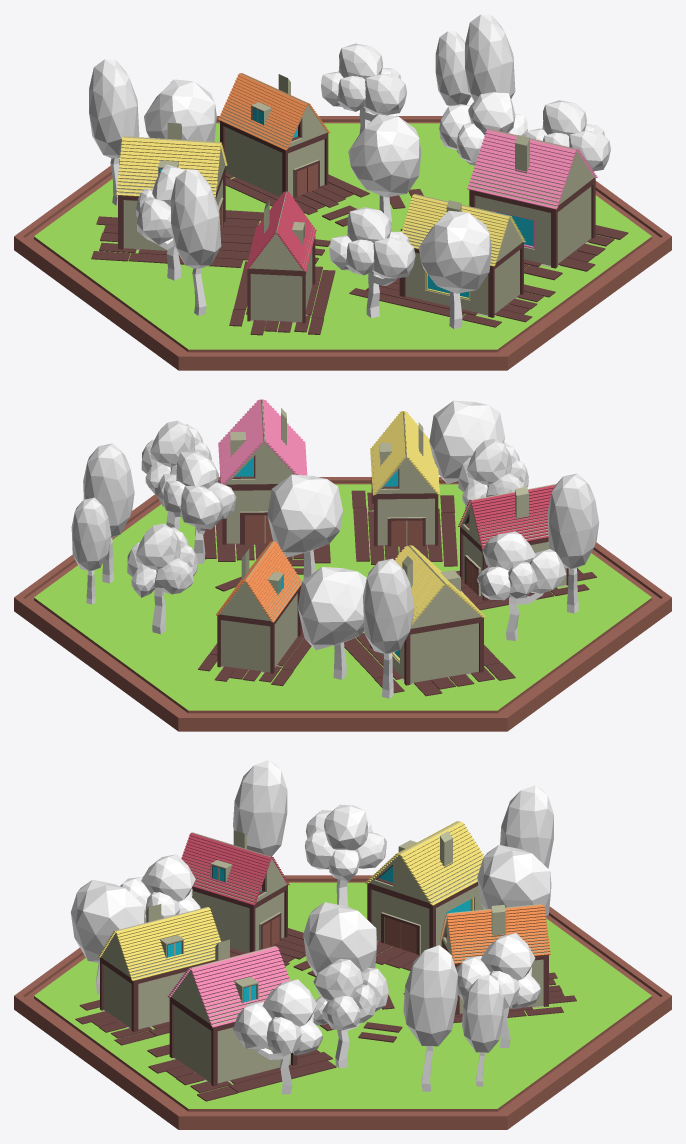
The model's file is Hexagon_Village.glb.
3 views of the same model, one above another, from view 1: azimuth 30°, elevation 25°; view 2: azimuth 150°, elevation 25°; view 3: azimuth 270°, elevation 25° (orthographic).
Visible parts, largest first — view 1: Circle, Plane.003, Plane.001, Plane, Plane.004, Plane.002, Tree 5.003, Tree 6, Tree 5, Tree 6.002, Tree 4.004, Tree 4.002 (+6 smaller); view 2: Circle, Plane.002, Plane, Plane.001, Plane.003, Plane.004, Tree 5, Tree 5.002, Tree 6.005, Tree 6.003, Tree 4.002, Tree 6.002 (+6 smaller); view 3: Circle, Plane.003, Plane, Plane.002, Plane.004, Plane.001, Tree 6.001, Tree 6.005, Tree 4.001, Tree 6.003, Tree 6.002, Tree 5 (+6 smaller).
Boxes of the visible parts, box(x1,y1,x2,y2) form: Circle: box(14, 116, 671, 370); Plane.003: box(467, 129, 628, 280); Plane.001: box(218, 73, 369, 214); Plane: box(91, 122, 263, 267); Plane.004: box(229, 191, 335, 335); Plane.002: box(349, 194, 555, 327); Tree 5.003: box(418, 210, 491, 328); Tree 6: box(329, 207, 415, 318); Tree 5: box(348, 114, 421, 231); Tree 6.002: box(321, 43, 406, 133); Tree 4.004: box(171, 169, 221, 315); Tree 4.002: box(89, 59, 139, 205); Circle: box(14, 477, 671, 731); Plane.002: box(351, 411, 457, 566); Plane: box(344, 545, 515, 696); Plane.001: box(198, 541, 311, 685); Plane.003: box(203, 399, 330, 563); Plane.004: box(455, 484, 596, 610); Tree 5: box(267, 474, 342, 579); Tree 5.002: box(297, 567, 366, 679); Tree 6.005: box(477, 531, 566, 640); Tree 6.003: box(157, 452, 236, 564); Tree 4.002: box(363, 558, 414, 698); Tree 6.002: box(127, 523, 197, 634); Circle: box(14, 875, 671, 1129); Plane.003: box(147, 939, 336, 1101); Plane: box(365, 821, 484, 970); Plane.002: box(75, 904, 220, 1045); Plane.004: box(181, 830, 305, 966); Plane.001: box(403, 904, 576, 1023); Tree 6.001: box(233, 979, 322, 1094); Tree 6.005: box(304, 804, 386, 906); Tree 4.001: box(403, 945, 457, 1091); Tree 6.003: box(313, 959, 388, 1068); Tree 6.002: box(456, 933, 540, 1047); Tree 5: box(303, 902, 377, 976).
Size of the model in its own units: 30.17 by 9.06 by 34.84.
Materials: 2 (1 with a texture image).
